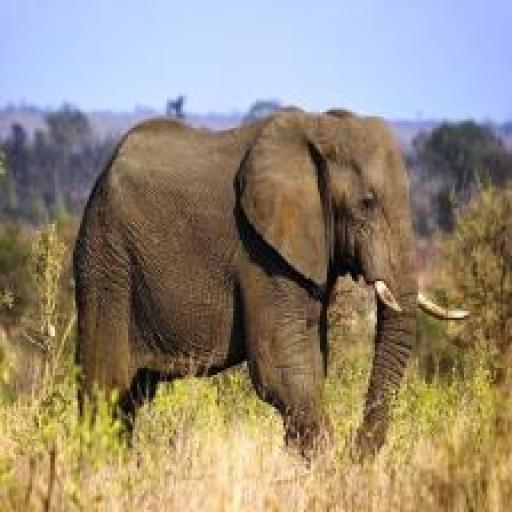Elephant: (71, 108, 417, 452)
